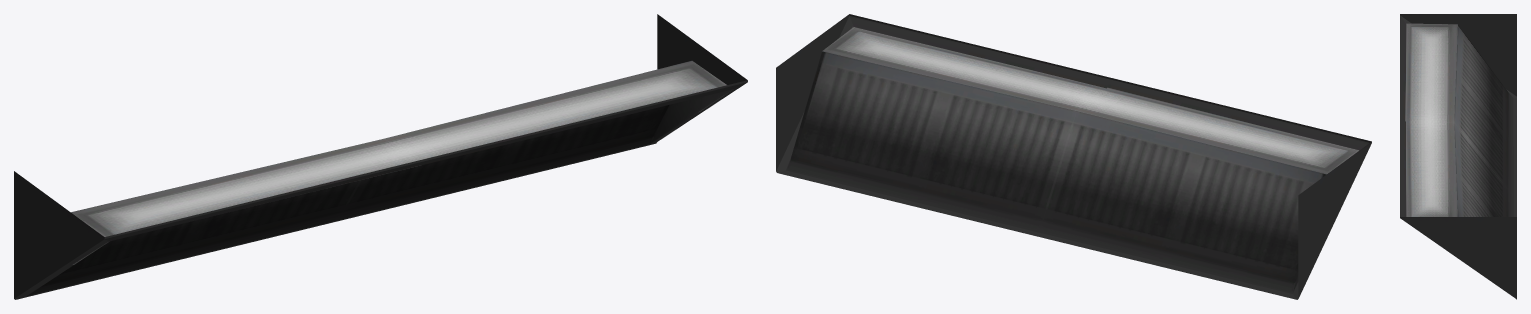
The model's file is p6_industrial_stove_vent_lod1.glb.
3 views of the same model, side by side, from view 1: azimuth 30°, elevation 25°; view 2: azimuth 150°, elevation 25°; view 3: azimuth 270°, elevation 25° (orthographic). The views are drawn at different scales.
Parts seen in each view (by area): view 1: surf0, surf1; view 2: surf0, surf1; view 3: surf0, surf1.
Part boxes in pixels (x1,y1,x2,y2): surf0: (14,14,747,299); surf1: (71,61,726,236); surf0: (776,14,1371,299); surf1: (822,27,1359,174); surf0: (1400,14,1516,299); surf1: (1406,23,1457,216).
Bounding box in the file's own units: 131 × 25.25 × 32.
